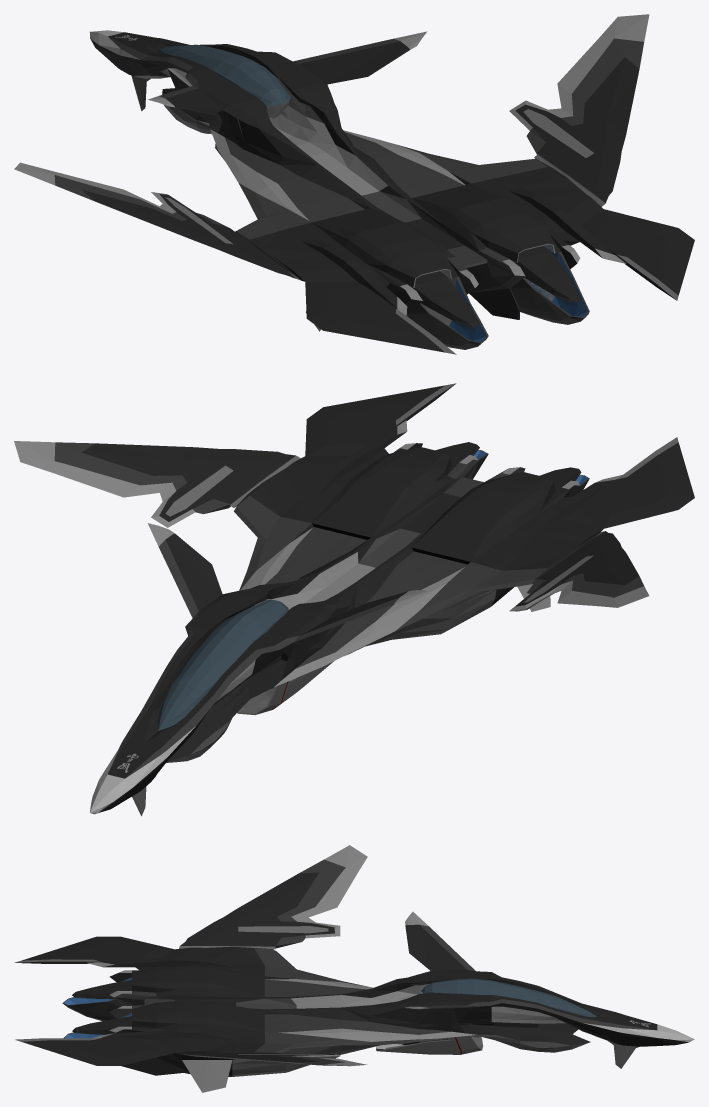
File: frx00NG.obj
3 views of the same model, one above another, from view 1: azimuth 30°, elevation 25°; view 2: azimuth 150°, elevation 25°; view 3: azimuth 270°, elevation 25° (orthographic). The views are drawn at different scales.
Parts seen in each view (by area): view 1: ShapeIndexedFaceSet.005_ShapeIndexedFaceSet.006, ShapeIndexedFaceSet.001_ShapeIndexedFaceSet.002, ShapeIndexedFaceSet_ShapeIndexedFaceSet.001, ShapeIndexedFaceSet.039_ShapeIndexedFaceSet.040, ShapeIndexedFaceSet.029_ShapeIndexedFaceSet.030, ShapeIndexedFaceSet.031_ShapeIndexedFaceSet.032, ShapeIndexedFaceSet.007_ShapeIndexedFaceSet.008, ShapeIndexedFaceSet.034_ShapeIndexedFaceSet.035, ShapeIndexedFaceSet.020_ShapeIndexedFaceSet.021, ShapeIndexedFaceSet.041_ShapeIndexedFaceSet.042, ShapeIndexedFaceSet.002_ShapeIndexedFaceSet.003, ShapeIndexedFaceSet.040_ShapeIndexedFaceSet.041 (+14 smaller); view 2: ShapeIndexedFaceSet.005_ShapeIndexedFaceSet.006, ShapeIndexedFaceSet.001_ShapeIndexedFaceSet.002, ShapeIndexedFaceSet_ShapeIndexedFaceSet.001, ShapeIndexedFaceSet.039_ShapeIndexedFaceSet.040, ShapeIndexedFaceSet.020_ShapeIndexedFaceSet.021, ShapeIndexedFaceSet.029_ShapeIndexedFaceSet.030, ShapeIndexedFaceSet.031_ShapeIndexedFaceSet.032, ShapeIndexedFaceSet.002_ShapeIndexedFaceSet.003, ShapeIndexedFaceSet.034_ShapeIndexedFaceSet.035, ShapeIndexedFaceSet.041_ShapeIndexedFaceSet.042, ShapeIndexedFaceSet.010_ShapeIndexedFaceSet.011, ShapeIndexedFaceSet.007_ShapeIndexedFaceSet.008 (+10 smaller); view 3: ShapeIndexedFaceSet.005_ShapeIndexedFaceSet.006, ShapeIndexedFaceSet.001_ShapeIndexedFaceSet.002, ShapeIndexedFaceSet_ShapeIndexedFaceSet.001, ShapeIndexedFaceSet.034_ShapeIndexedFaceSet.035, ShapeIndexedFaceSet.010_ShapeIndexedFaceSet.011, ShapeIndexedFaceSet.031_ShapeIndexedFaceSet.032, ShapeIndexedFaceSet.029_ShapeIndexedFaceSet.030, ShapeIndexedFaceSet.020_ShapeIndexedFaceSet.021, ShapeIndexedFaceSet.036_ShapeIndexedFaceSet.037, ShapeIndexedFaceSet.002_ShapeIndexedFaceSet.003, ShapeIndexedFaceSet.007_ShapeIndexedFaceSet.008, ShapeIndexedFaceSet.035_ShapeIndexedFaceSet.036 (+13 smaller).
Boxes of the visible parts, x1,y1,x2,y2 form: ShapeIndexedFaceSet.005_ShapeIndexedFaceSet.006: [90, 39, 614, 319]; ShapeIndexedFaceSet.001_ShapeIndexedFaceSet.002: [108, 37, 547, 239]; ShapeIndexedFaceSet_ShapeIndexedFaceSet.001: [93, 32, 470, 249]; ShapeIndexedFaceSet.039_ShapeIndexedFaceSet.040: [515, 57, 639, 203]; ShapeIndexedFaceSet.029_ShapeIndexedFaceSet.030: [305, 282, 444, 352]; ShapeIndexedFaceSet.031_ShapeIndexedFaceSet.032: [581, 209, 694, 300]; ShapeIndexedFaceSet.007_ShapeIndexedFaceSet.008: [216, 74, 626, 315]; ShapeIndexedFaceSet.034_ShapeIndexedFaceSet.035: [82, 190, 299, 278]; ShapeIndexedFaceSet.020_ShapeIndexedFaceSet.021: [157, 44, 290, 105]; ShapeIndexedFaceSet.041_ShapeIndexedFaceSet.042: [509, 14, 649, 130]; ShapeIndexedFaceSet.002_ShapeIndexedFaceSet.003: [90, 35, 465, 220]; ShapeIndexedFaceSet.040_ShapeIndexedFaceSet.041: [526, 38, 644, 154]; ShapeIndexedFaceSet.005_ShapeIndexedFaceSet.006: [99, 426, 616, 812]; ShapeIndexedFaceSet.001_ShapeIndexedFaceSet.002: [108, 495, 547, 777]; ShapeIndexedFaceSet_ShapeIndexedFaceSet.001: [107, 487, 461, 800]; ShapeIndexedFaceSet.039_ShapeIndexedFaceSet.040: [81, 443, 295, 521]; ShapeIndexedFaceSet.020_ShapeIndexedFaceSet.021: [157, 600, 288, 730]; ShapeIndexedFaceSet.029_ShapeIndexedFaceSet.030: [578, 442, 694, 528]; ShapeIndexedFaceSet.031_ShapeIndexedFaceSet.032: [305, 384, 455, 455]; ShapeIndexedFaceSet.002_ShapeIndexedFaceSet.003: [99, 528, 464, 811]; ShapeIndexedFaceSet.034_ShapeIndexedFaceSet.035: [516, 531, 639, 606]; ShapeIndexedFaceSet.041_ShapeIndexedFaceSet.042: [14, 441, 195, 527]; ShapeIndexedFaceSet.010_ShapeIndexedFaceSet.011: [166, 590, 496, 762]; ShapeIndexedFaceSet.007_ShapeIndexedFaceSet.008: [252, 420, 621, 685]; ShapeIndexedFaceSet.005_ShapeIndexedFaceSet.006: [101, 947, 688, 1076]; ShapeIndexedFaceSet.001_ShapeIndexedFaceSet.002: [254, 948, 655, 1052]; ShapeIndexedFaceSet_ShapeIndexedFaceSet.001: [175, 970, 675, 1040]; ShapeIndexedFaceSet.034_ShapeIndexedFaceSet.035: [180, 872, 334, 949]; ShapeIndexedFaceSet.010_ShapeIndexedFaceSet.011: [232, 1034, 656, 1076]; ShapeIndexedFaceSet.031_ShapeIndexedFaceSet.032: [21, 1038, 174, 1065]; ShapeIndexedFaceSet.029_ShapeIndexedFaceSet.030: [16, 936, 173, 963]; ShapeIndexedFaceSet.020_ShapeIndexedFaceSet.021: [421, 978, 596, 1017]; ShapeIndexedFaceSet.036_ShapeIndexedFaceSet.037: [291, 845, 367, 938]; ShapeIndexedFaceSet.002_ShapeIndexedFaceSet.003: [266, 979, 687, 1042]; ShapeIndexedFaceSet.007_ShapeIndexedFaceSet.008: [87, 962, 429, 1038]; ShapeIndexedFaceSet.035_ShapeIndexedFaceSet.036: [275, 859, 345, 948].
Bounding box in the file's own units: 1384 × 331 × 1801.
